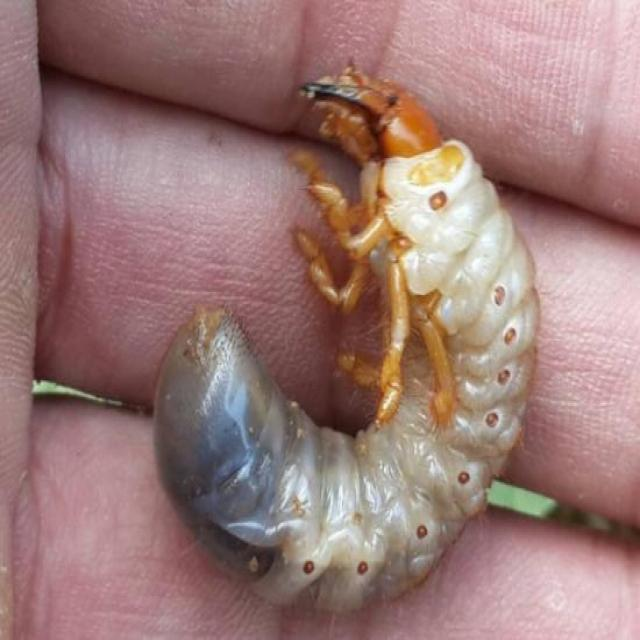Grub-Adult-: (148, 61, 544, 606)
